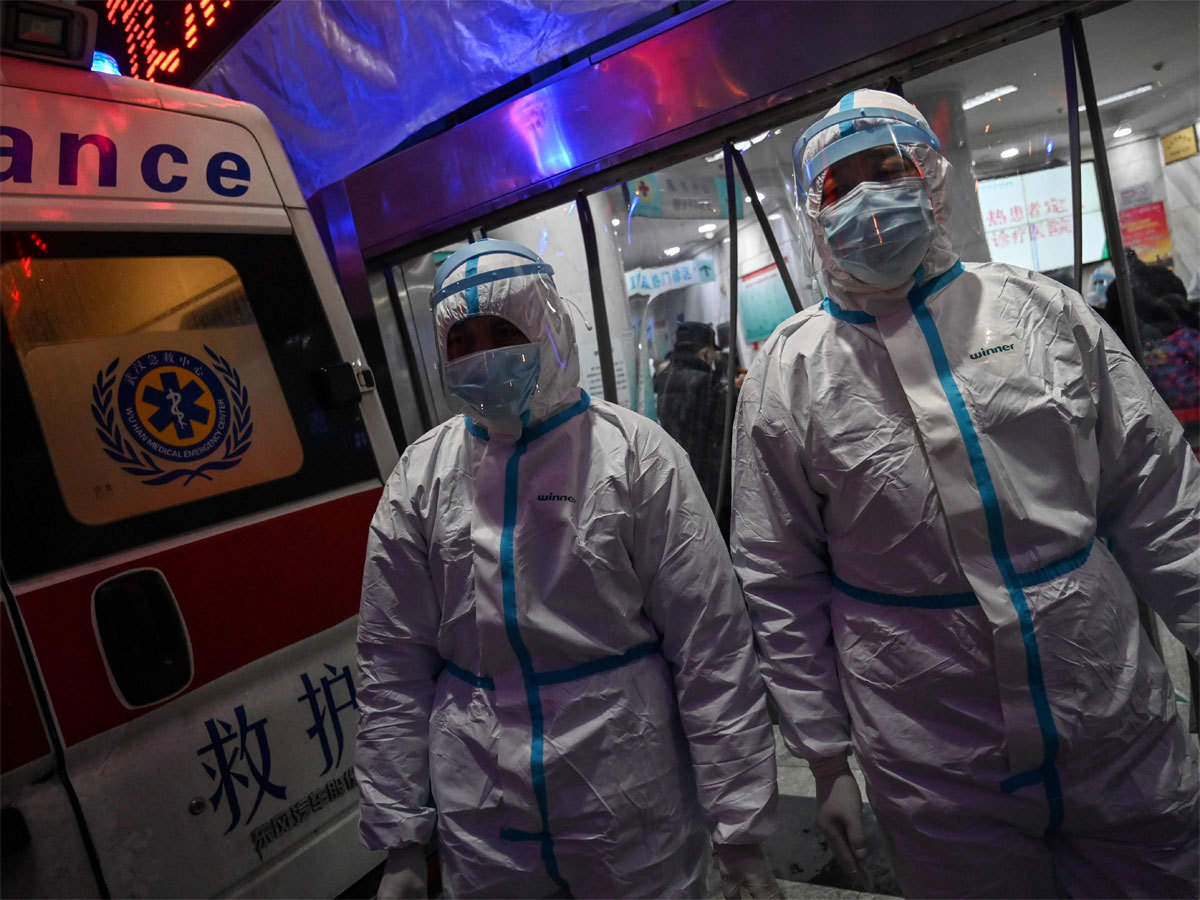Coverall: (723, 88, 1197, 899), (354, 243, 775, 896)
Face_Shield: (790, 108, 977, 320), (417, 265, 586, 446)
Gloves: (807, 776, 874, 885), (701, 850, 782, 899), (377, 853, 434, 899)
with_mask: (821, 168, 933, 285), (443, 326, 540, 416)
